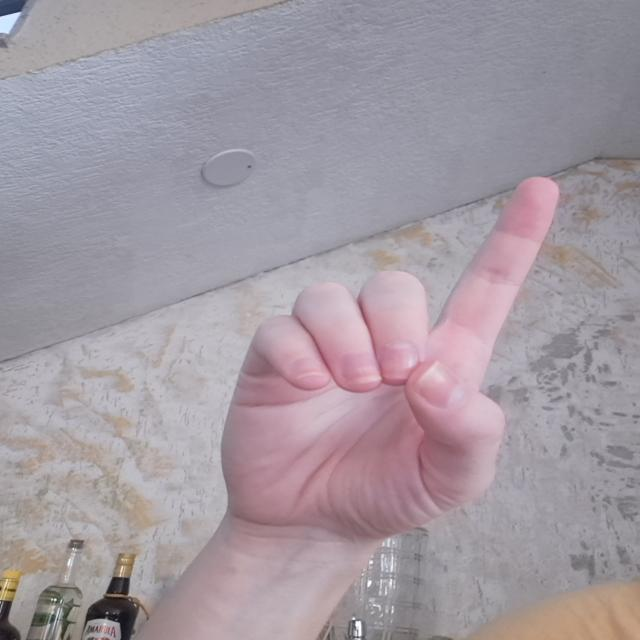D2: (217, 171, 562, 541)
